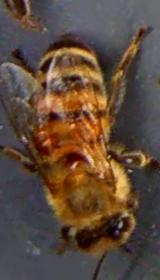varroa_mite: (29, 122, 61, 156)
